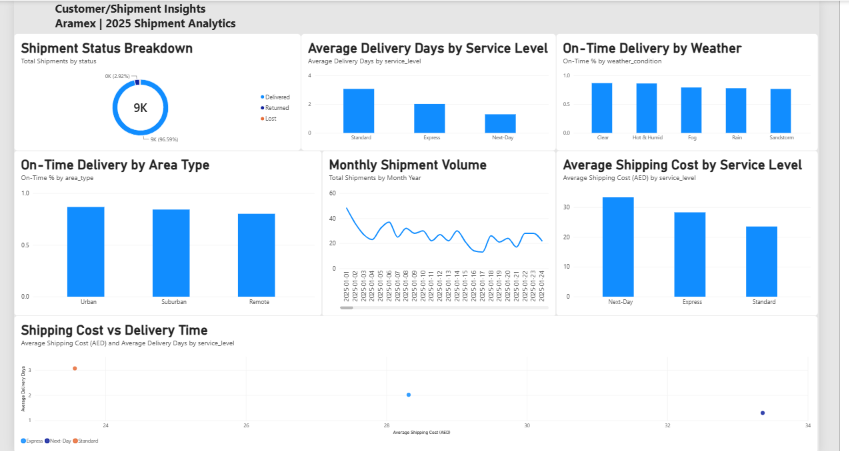

This screenshot's page, from the dashboard's own definition file:
{"tool":"powerbi","page":{"name":"Customer/Shipment Insights","canvas":[1920,1080],"ordinal":2},"visuals":[{"type":"donutChart","title":"Shipment Status Breakdown","fields":{"Category":["shipments_clean.status"],"Y":["shipments_clean.Total Shipments"]},"box":[0,78.7,684.8,279.2],"z":0},{"type":"clusteredColumnChart","title":"Average Delivery Days by Service Level","fields":{"Category":["shipments_clean.service_level"],"Y":["shipments_clean.Average Delivery Days"]},"box":[684.8,78.7,608.4,279.2],"z":1000},{"type":"clusteredColumnChart","title":"On-Time Delivery by Weather","fields":{"Category":["shipments_clean.weather_condition"],"Y":["shipments_clean.On-Time %"]},"box":[1293.2,78.7,625.1,279.2],"z":2000},{"type":"clusteredColumnChart","title":"Average Shipping Cost by Service Level","fields":{"Category":["shipments_clean.service_level"],"Y":["shipments_clean.Average Shipping Cost"]},"box":[1293.2,357.9,625.1,393.7],"z":3000},{"type":"clusteredColumnChart","title":"On-Time Delivery by Area Type","fields":{"Category":["shipments_clean.area_type"],"Y":["shipments_clean.On-Time %"]},"box":[0,357.9,734.9,393.7],"z":4000},{"type":"lineChart","title":"Monthly Shipment Volume","fields":{"Category":["shipments_clean.Month Year"],"Y":["shipments_clean.Total Shipments"]},"box":[734.9,357.9,558.3,396.1],"z":5000},{"type":"scatterChart","title":"Shipping Cost vs Delivery Time","fields":{"Series":["shipments_clean.service_level"],"X":["shipments_clean.Average Shipping Cost"],"Y":["shipments_clean.Average Delivery Days"]},"box":[0,751.6,1918.3,329.3],"z":6000},{"type":"textbox","box":[97.8,0,1672.5,78.7],"z":7000}]}

Visuals, with their boxes on the page's 1920x1080 design canvas (x1, y1, x2, y2). These are canvas units, not pixel positions in the 849x451 screenshot, which may show the page scaled, cropped or inside an application window:
"Shipment Status Breakdown" donutChart: x1=0 y1=79 x2=685 y2=358
"Average Delivery Days by Service Level" clusteredColumnChart: x1=685 y1=79 x2=1293 y2=358
"On-Time Delivery by Weather" clusteredColumnChart: x1=1293 y1=79 x2=1918 y2=358
"Average Shipping Cost by Service Level" clusteredColumnChart: x1=1293 y1=358 x2=1918 y2=752
"On-Time Delivery by Area Type" clusteredColumnChart: x1=0 y1=358 x2=735 y2=752
"Monthly Shipment Volume" lineChart: x1=735 y1=358 x2=1293 y2=754
"Shipping Cost vs Delivery Time" scatterChart: x1=0 y1=752 x2=1918 y2=1081
textbox: x1=98 y1=0 x2=1770 y2=79
